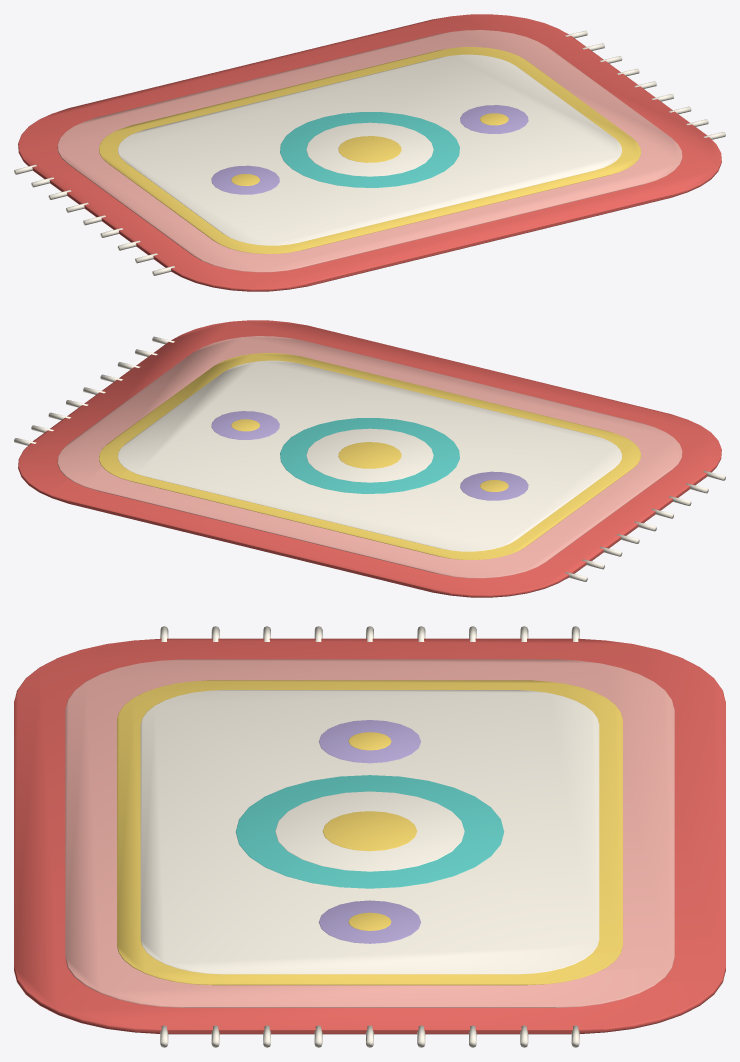
File: rug.glb
The picture shows the model from 3 angles, top to bottom: view 1: azimuth 30°, elevation 25°; view 2: azimuth 150°, elevation 25°; view 3: azimuth 270°, elevation 25°; orthographic projection. The views are drawn at different scales.
Parts seen in each view (by area): view 1: DecRug_CreamCenterAndFringe, DecRug_CoralBorder, DecRug_PeachBand, DecRug_ButterTrim, DecRug_TurquoiseMedallion, DecRug_LavenderDots; view 2: DecRug_CreamCenterAndFringe, DecRug_CoralBorder, DecRug_PeachBand, DecRug_ButterTrim, DecRug_TurquoiseMedallion, DecRug_LavenderDots; view 3: DecRug_CreamCenterAndFringe, DecRug_CoralBorder, DecRug_PeachBand, DecRug_ButterTrim, DecRug_TurquoiseMedallion, DecRug_LavenderDots.
Part boxes in pixels (x1,y1,x2,y2): DecRug_CreamCenterAndFringe: (14, 30, 725, 275); DecRug_CoralBorder: (18, 14, 721, 291); DecRug_PeachBand: (57, 30, 682, 272); DecRug_ButterTrim: (99, 47, 640, 254); DecRug_TurquoiseMedallion: (280, 112, 459, 187); DecRug_LavenderDots: (211, 105, 528, 194); DecRug_CreamCenterAndFringe: (14, 336, 725, 581); DecRug_CoralBorder: (18, 320, 721, 597); DecRug_PeachBand: (57, 336, 682, 578); DecRug_ButterTrim: (99, 353, 640, 559); DecRug_TurquoiseMedallion: (280, 418, 459, 493); DecRug_LavenderDots: (211, 411, 528, 500); DecRug_CreamCenterAndFringe: (140, 626, 599, 1047); DecRug_CoralBorder: (14, 638, 725, 1034); DecRug_PeachBand: (65, 659, 674, 1007); DecRug_ButterTrim: (117, 680, 622, 985); DecRug_TurquoiseMedallion: (235, 775, 504, 888); DecRug_LavenderDots: (318, 720, 421, 943).
Bounding box in the file's own units: 2.48 × 0.027 × 1.8.
